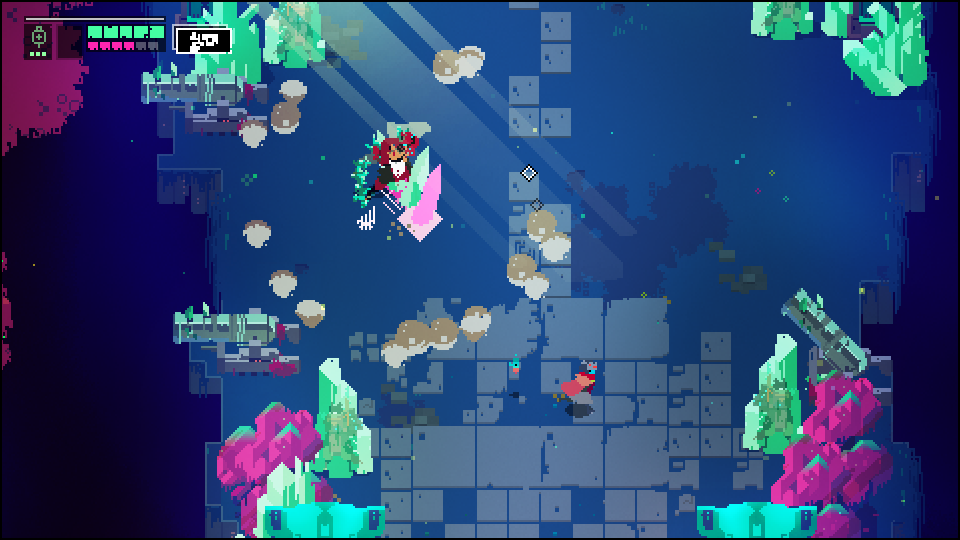hanged_crys: (404, 163, 445, 226)
hanged_man: (350, 119, 436, 207)
player: (557, 359, 601, 413)
